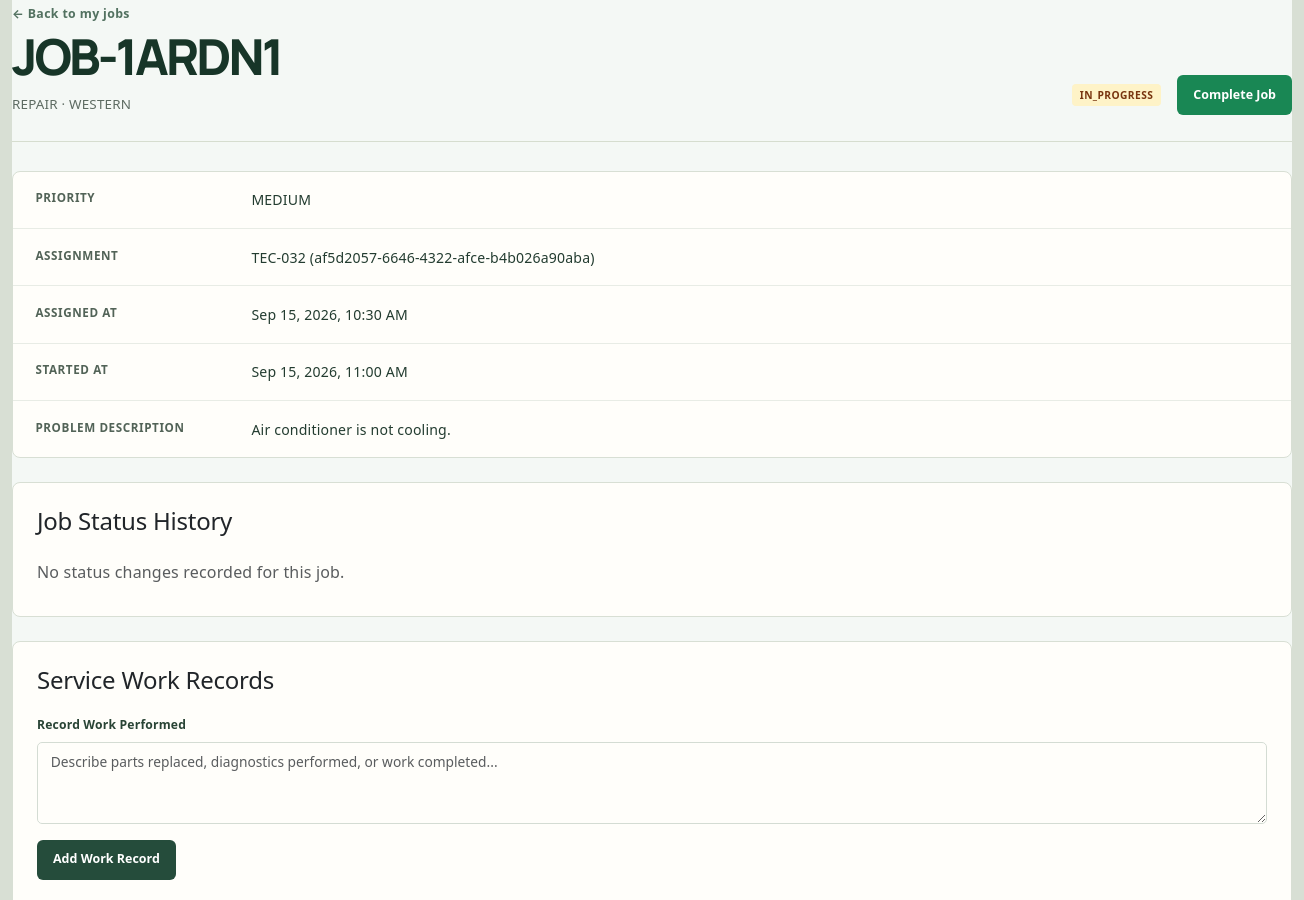
JobDetailPage › shows a forbidden error if the technician cannot add a work record
The width and height of the screenshot is (1304, 900).
Replace the text in the text box labelled "Record Work Performed" with "Inspected the unit." at (652, 783), box x1=37 y1=742 x2=1267 y2=824
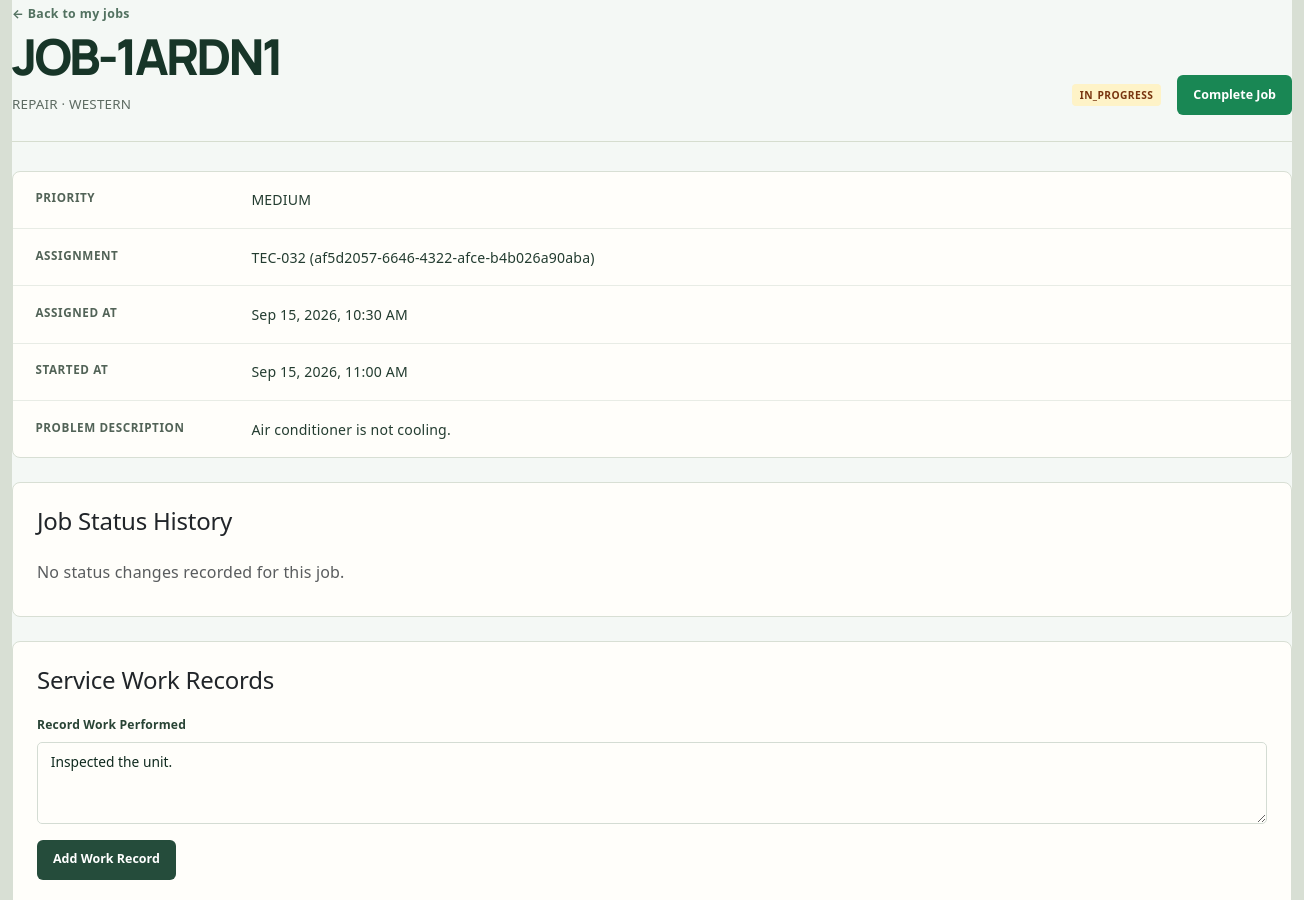
Click the button "Add Work Record".
click(106, 860)  # box x1=37 y1=840 x2=176 y2=880
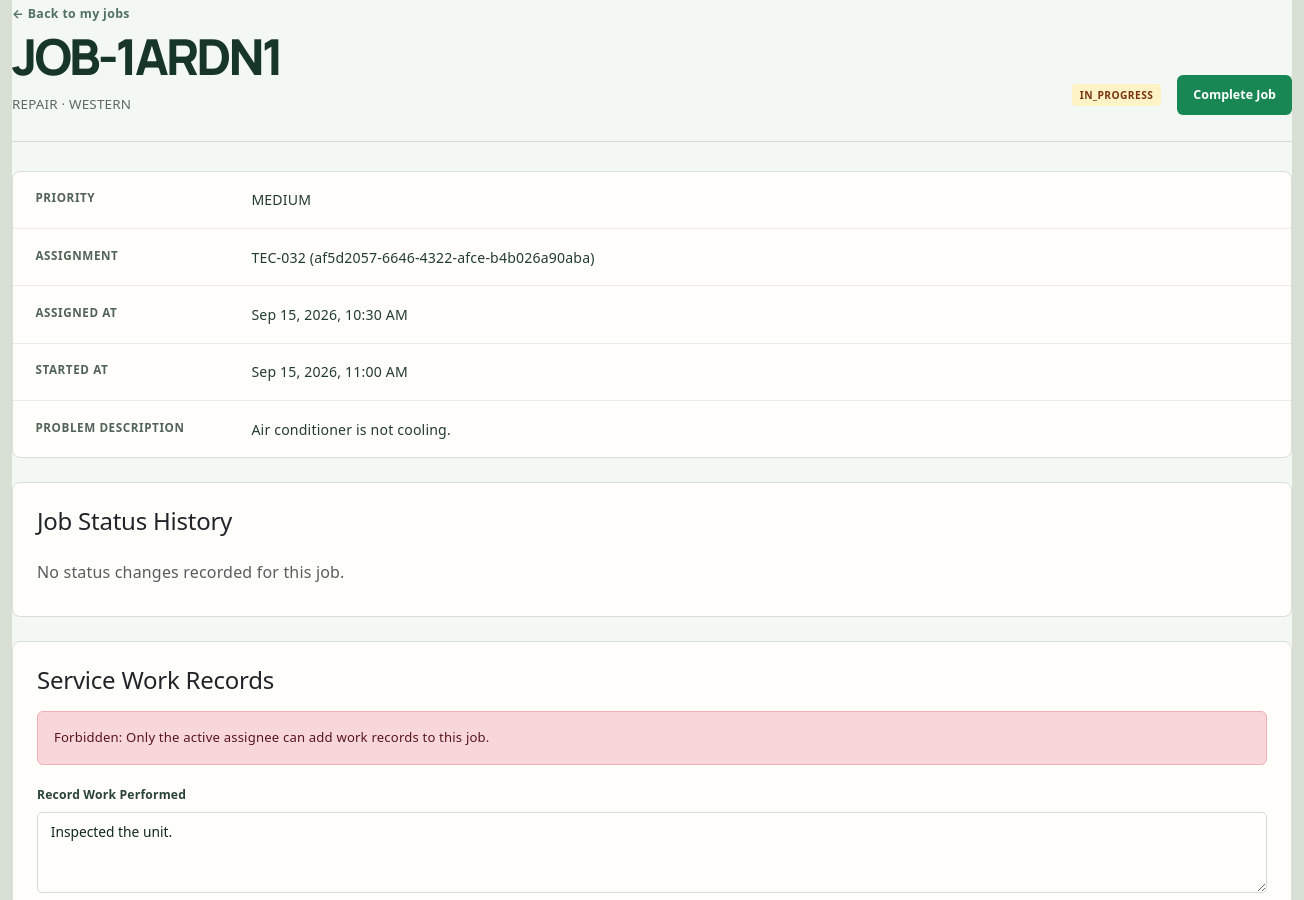
expect the text "Forbidden: Only the active assignee can add work records to this job." is shown: met, box x1=37 y1=711 x2=1267 y2=765
